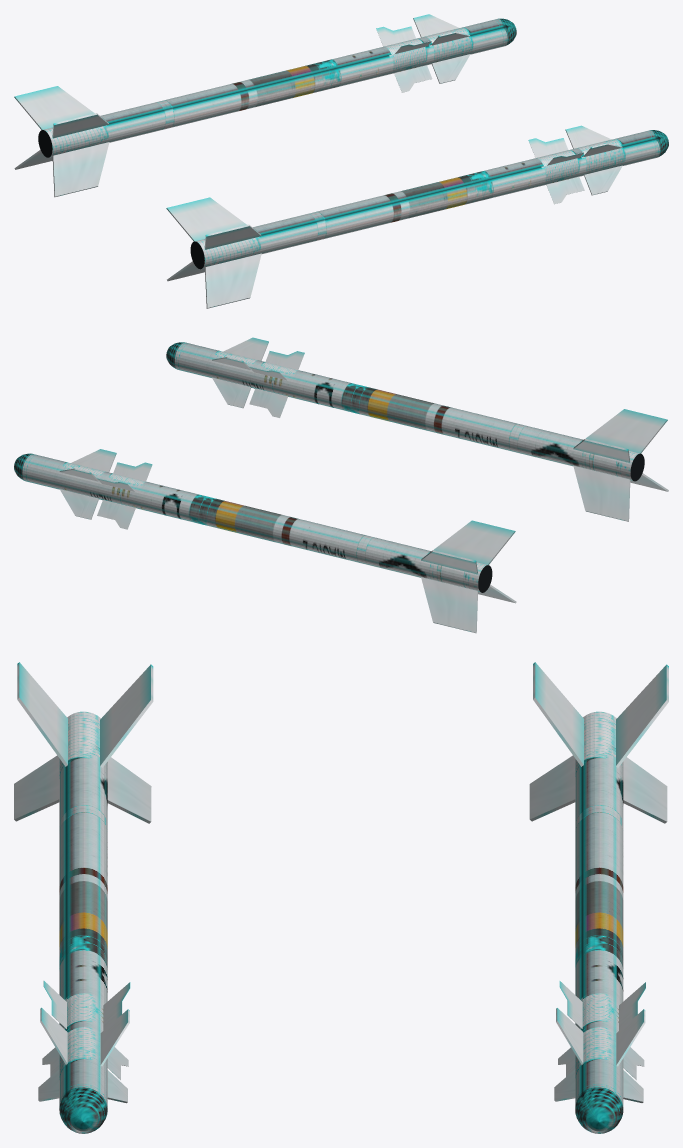
The picture shows the model from 3 angles, top to bottom: view 1: azimuth 30°, elevation 25°; view 2: azimuth 150°, elevation 25°; view 3: azimuth 270°, elevation 25°; orthographic projection. The views are drawn at different scales.
Visible parts, largest first — view 1: 立方体.004, 立方体.005; view 2: 立方体.004, 立方体.005; view 3: 立方体.005, 立方体.004.
Boxes of the visible parts, box(x1,y1,x2,y2) form: 立方体.004: box(14, 14, 516, 197); 立方体.005: box(166, 125, 668, 308); 立方体.004: box(14, 449, 516, 633); 立方体.005: box(166, 337, 668, 521); 立方体.005: box(14, 662, 153, 1133); 立方体.004: box(529, 662, 668, 1133).
Bounding box in the file's own units: 3.19 × 0.4709 × 2.22.
Materials: 2 (2 with a texture image).
